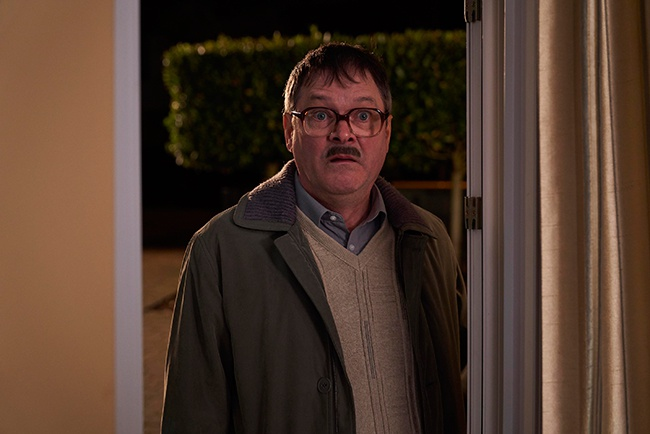bad: (295, 96, 384, 186)
